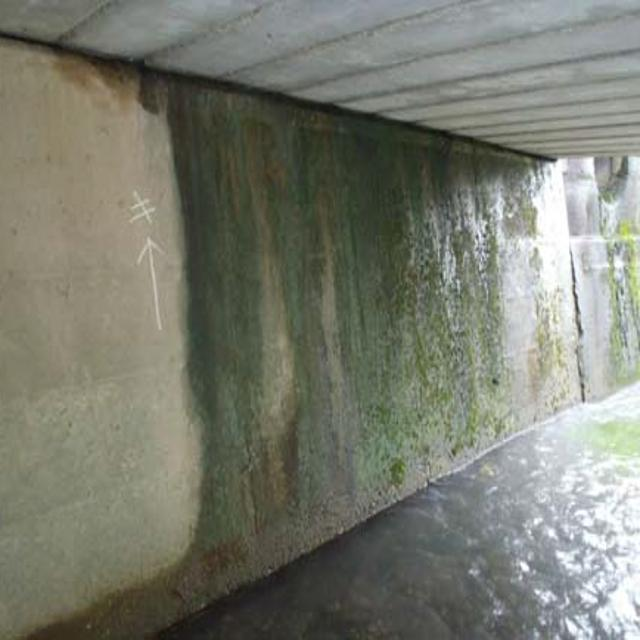leakage: (159, 56, 597, 523)
